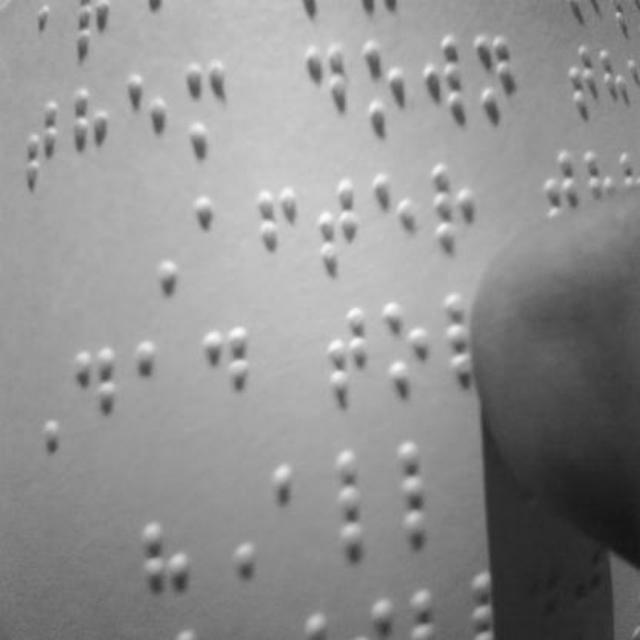braiile: (398, 438, 464, 554), (334, 449, 396, 555), (68, 338, 128, 447), (310, 162, 366, 276), (199, 320, 257, 430), (315, 302, 375, 408), (370, 163, 426, 273), (384, 298, 440, 407), (270, 456, 324, 568), (428, 154, 482, 262), (182, 58, 235, 164), (253, 180, 303, 290), (358, 36, 410, 140), (130, 334, 183, 436), (420, 30, 470, 136), (124, 70, 172, 180), (304, 36, 352, 144), (69, 84, 119, 186), (16, 91, 64, 197), (474, 28, 522, 132), (189, 192, 239, 290)
